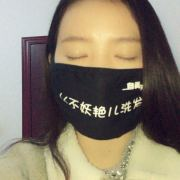face_mask: (53, 3, 144, 130)
